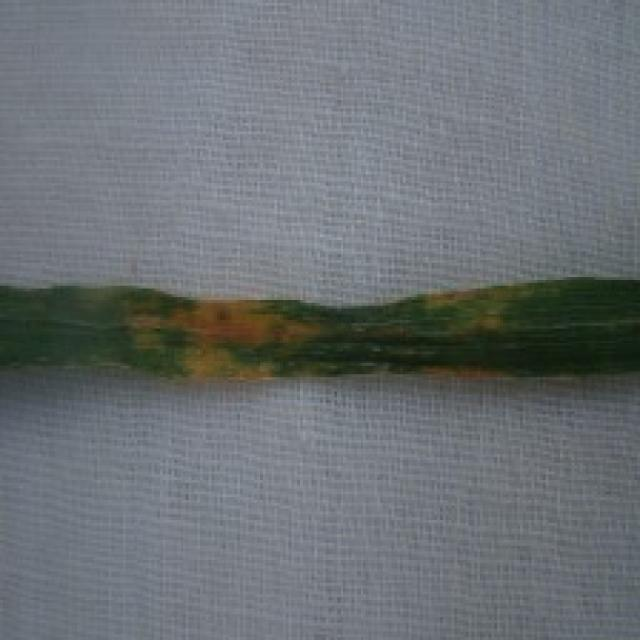Bacterial_Blight: (98, 294, 330, 383), (422, 294, 531, 370)
